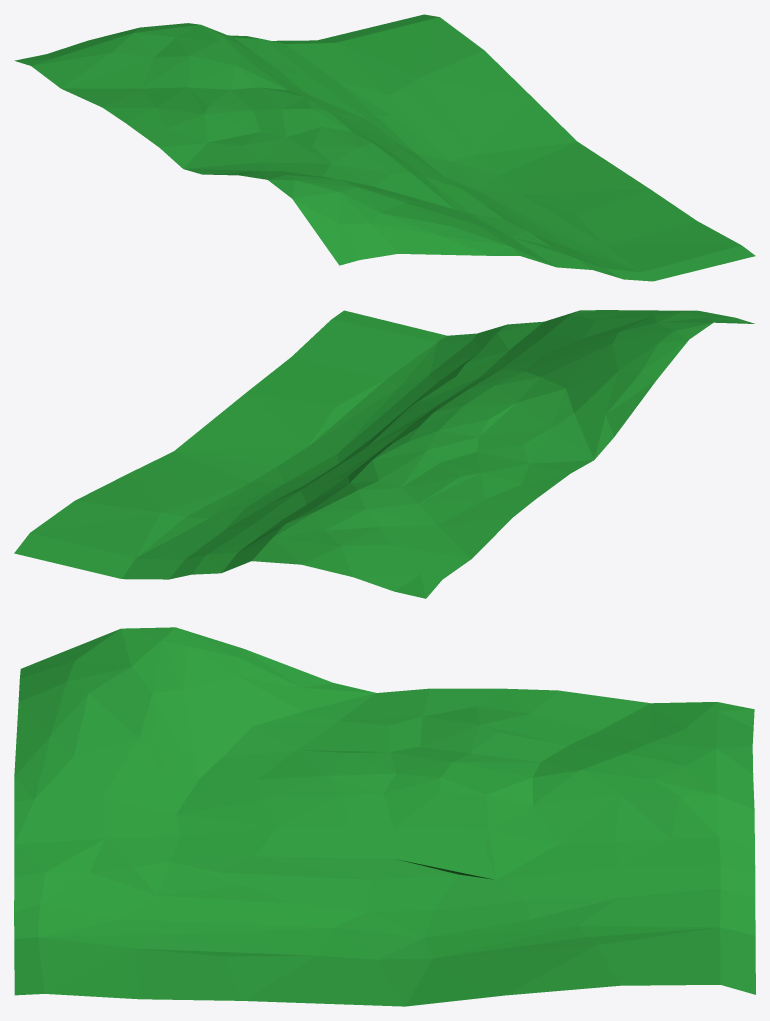
File: Field_R5.fbx
The picture shows the model from 3 angles, top to bottom: view 1: azimuth 30°, elevation 25°; view 2: azimuth 150°, elevation 25°; view 3: azimuth 270°, elevation 25°; orthographic projection. The views are drawn at different scales.
Visible parts, largest first — view 1: R5; view 2: R5; view 3: R5.
Part boxes in pixels (left/top/right/bottom): R5: left=14, top=14, right=755, bottom=281; R5: left=14, top=310, right=754, bottom=598; R5: left=14, top=627, right=755, bottom=1006.
Bounding box in the file's own units: 2441 × 781 × 3361.
